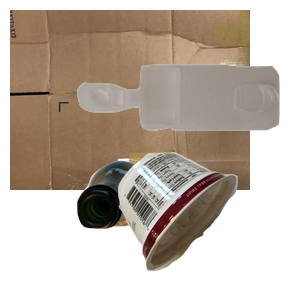cardboard: (10, 10, 250, 190)
glass: (74, 158, 223, 300)
plastic: (75, 62, 300, 186)
trash: (116, 149, 300, 300)
